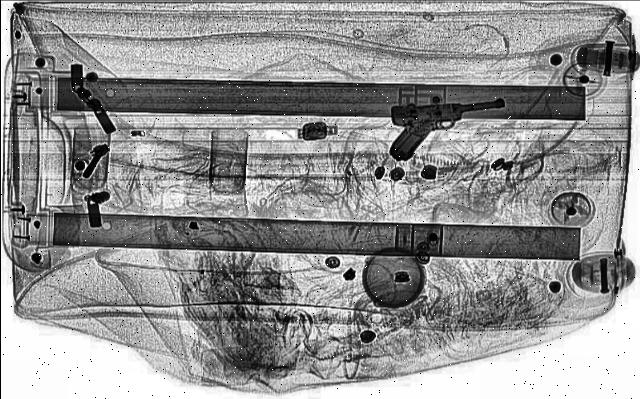Gun: (348, 72, 522, 164)
